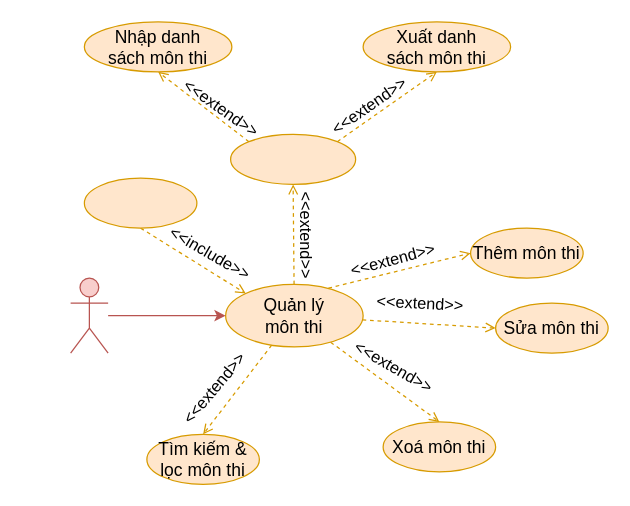
Some shapes in this 630 by 506 pixel diagram are drawn without their labels. Here are the shapes that lost their labels. From the top down, the centre of each, then its label:
At (292,158): "Nhập/Xuất".
At (140,202): "Đăng nhập".
At (88,315): "Quản trị hệ thống".
